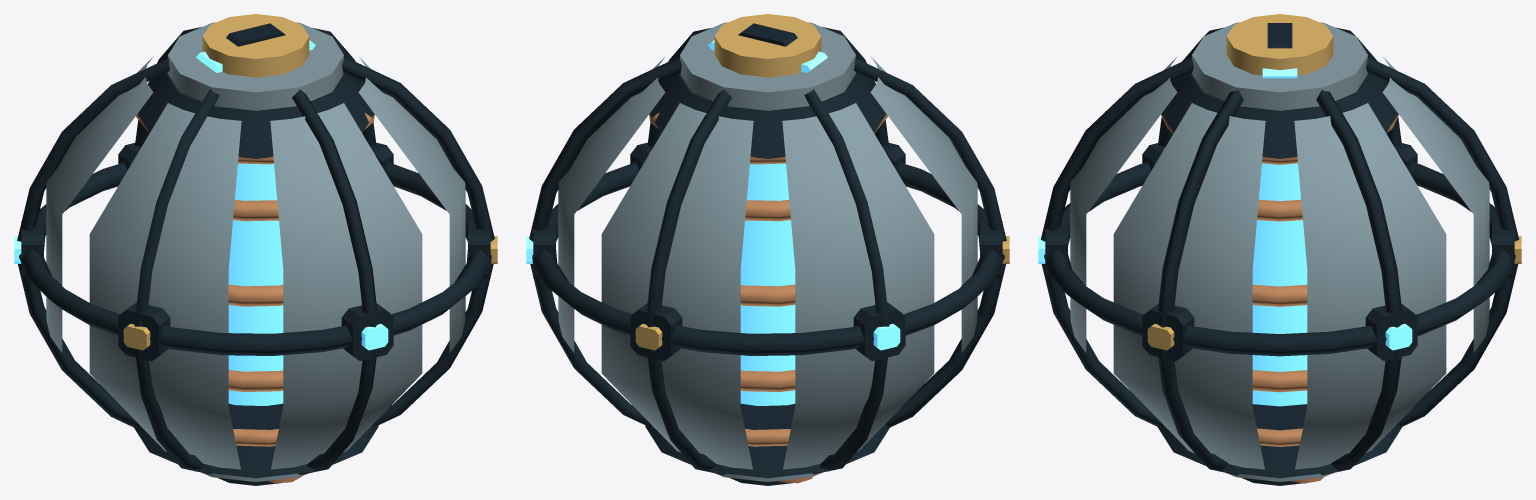
The model's file is emp-node-e01.glb.
3 renders of one model, left to right at view 1: azimuth 30°, elevation 25°; view 2: azimuth 150°, elevation 25°; view 3: azimuth 270°, elevation 25°, orthographic.
Visible parts, largest first — view 1: E01_SegmentedArmor_Surface, E01_MagneticChassis_Surface, E01_PulseCapacitor_Surface, E01_ArmingInterlock_Surface, E01_InductionWindings_Surface; view 2: E01_SegmentedArmor_Surface, E01_MagneticChassis_Surface, E01_PulseCapacitor_Surface, E01_ArmingInterlock_Surface, E01_InductionWindings_Surface; view 3: E01_SegmentedArmor_Surface, E01_MagneticChassis_Surface, E01_PulseCapacitor_Surface, E01_ArmingInterlock_Surface, E01_InductionWindings_Surface.
Part boxes in pixels (bbox=[...]): E01_SegmentedArmor_Surface: bbox=[46, 22, 465, 481]; E01_MagneticChassis_Surface: bbox=[17, 23, 494, 485]; E01_PulseCapacitor_Surface: bbox=[14, 40, 388, 405]; E01_ArmingInterlock_Surface: bbox=[123, 14, 497, 350]; E01_InductionWindings_Surface: bbox=[136, 113, 375, 483]; E01_SegmentedArmor_Surface: bbox=[558, 22, 977, 481]; E01_MagneticChassis_Surface: bbox=[529, 23, 1006, 485]; E01_PulseCapacitor_Surface: bbox=[526, 40, 900, 405]; E01_ArmingInterlock_Surface: bbox=[635, 14, 1009, 350]; E01_InductionWindings_Surface: bbox=[648, 113, 887, 483]; E01_SegmentedArmor_Surface: bbox=[1070, 22, 1489, 481]; E01_MagneticChassis_Surface: bbox=[1041, 23, 1518, 485]; E01_PulseCapacitor_Surface: bbox=[1038, 68, 1412, 406]; E01_ArmingInterlock_Surface: bbox=[1147, 14, 1521, 350]; E01_InductionWindings_Surface: bbox=[1161, 114, 1398, 483].
Size of the model in its own units: 0.232 by 0.232 by 0.236.
